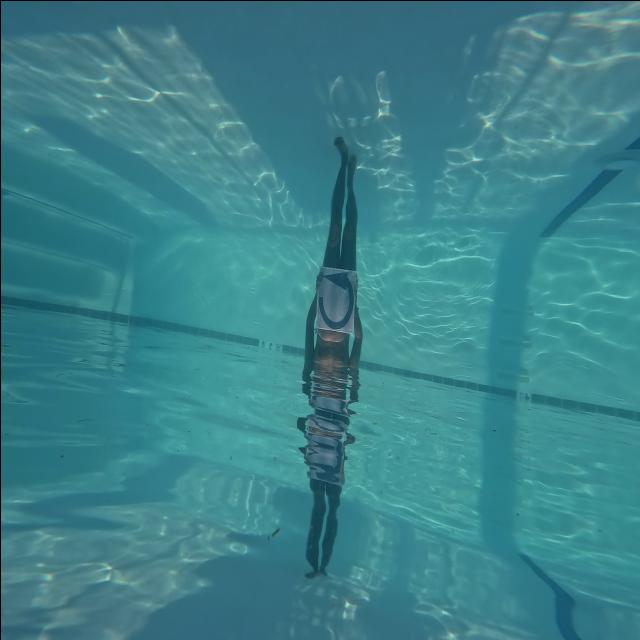blue_side: (315, 264, 355, 338)
